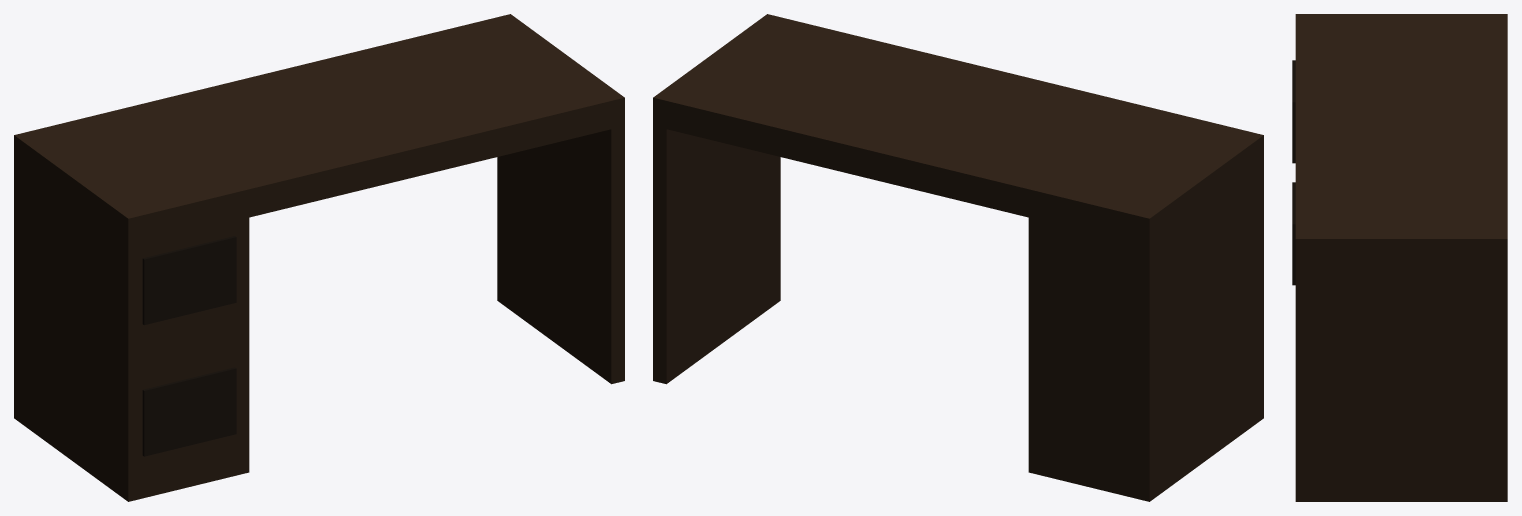
File: Escritorio.fbx
3 views of the same model, side by side, from view 1: azimuth 30°, elevation 25°; view 2: azimuth 150°, elevation 25°; view 3: azimuth 270°, elevation 25° (orthographic). The views are drawn at different scales.
Visible parts, largest first — view 1: Box002; view 2: Box002; view 3: Box002.
Part boxes in pixels (x1,y1,x2,y2): Box002: (14,14,624,501); Box002: (653,14,1263,501); Box002: (1292,14,1507,501).
Bounding box in the file's own units: 133 × 72.63 × 53.85.
